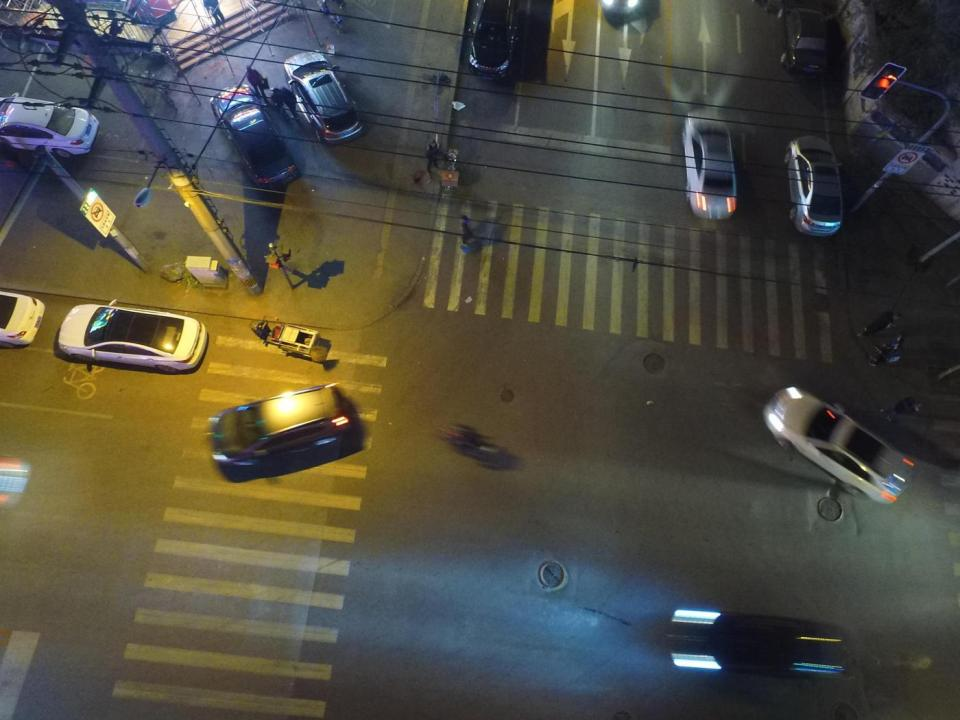car: (762, 386, 912, 502), (210, 381, 352, 485), (671, 608, 851, 676), (59, 298, 210, 373), (209, 84, 297, 188), (280, 50, 361, 144), (776, 133, 844, 235), (681, 111, 738, 220), (0, 96, 98, 158), (467, 0, 516, 80), (778, 3, 830, 75), (0, 291, 44, 349), (599, 0, 650, 19), (317, 1, 345, 34)
